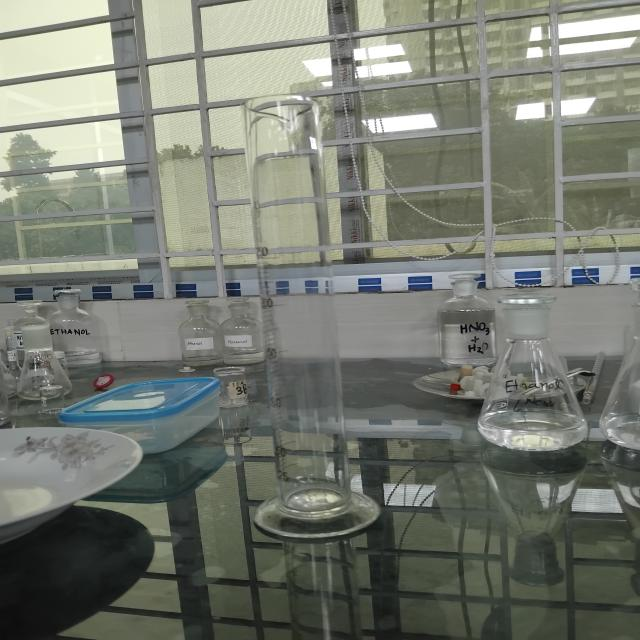Conical_Flask: (467, 277, 595, 471)
Measuring_Cylinder: (217, 69, 407, 570)
